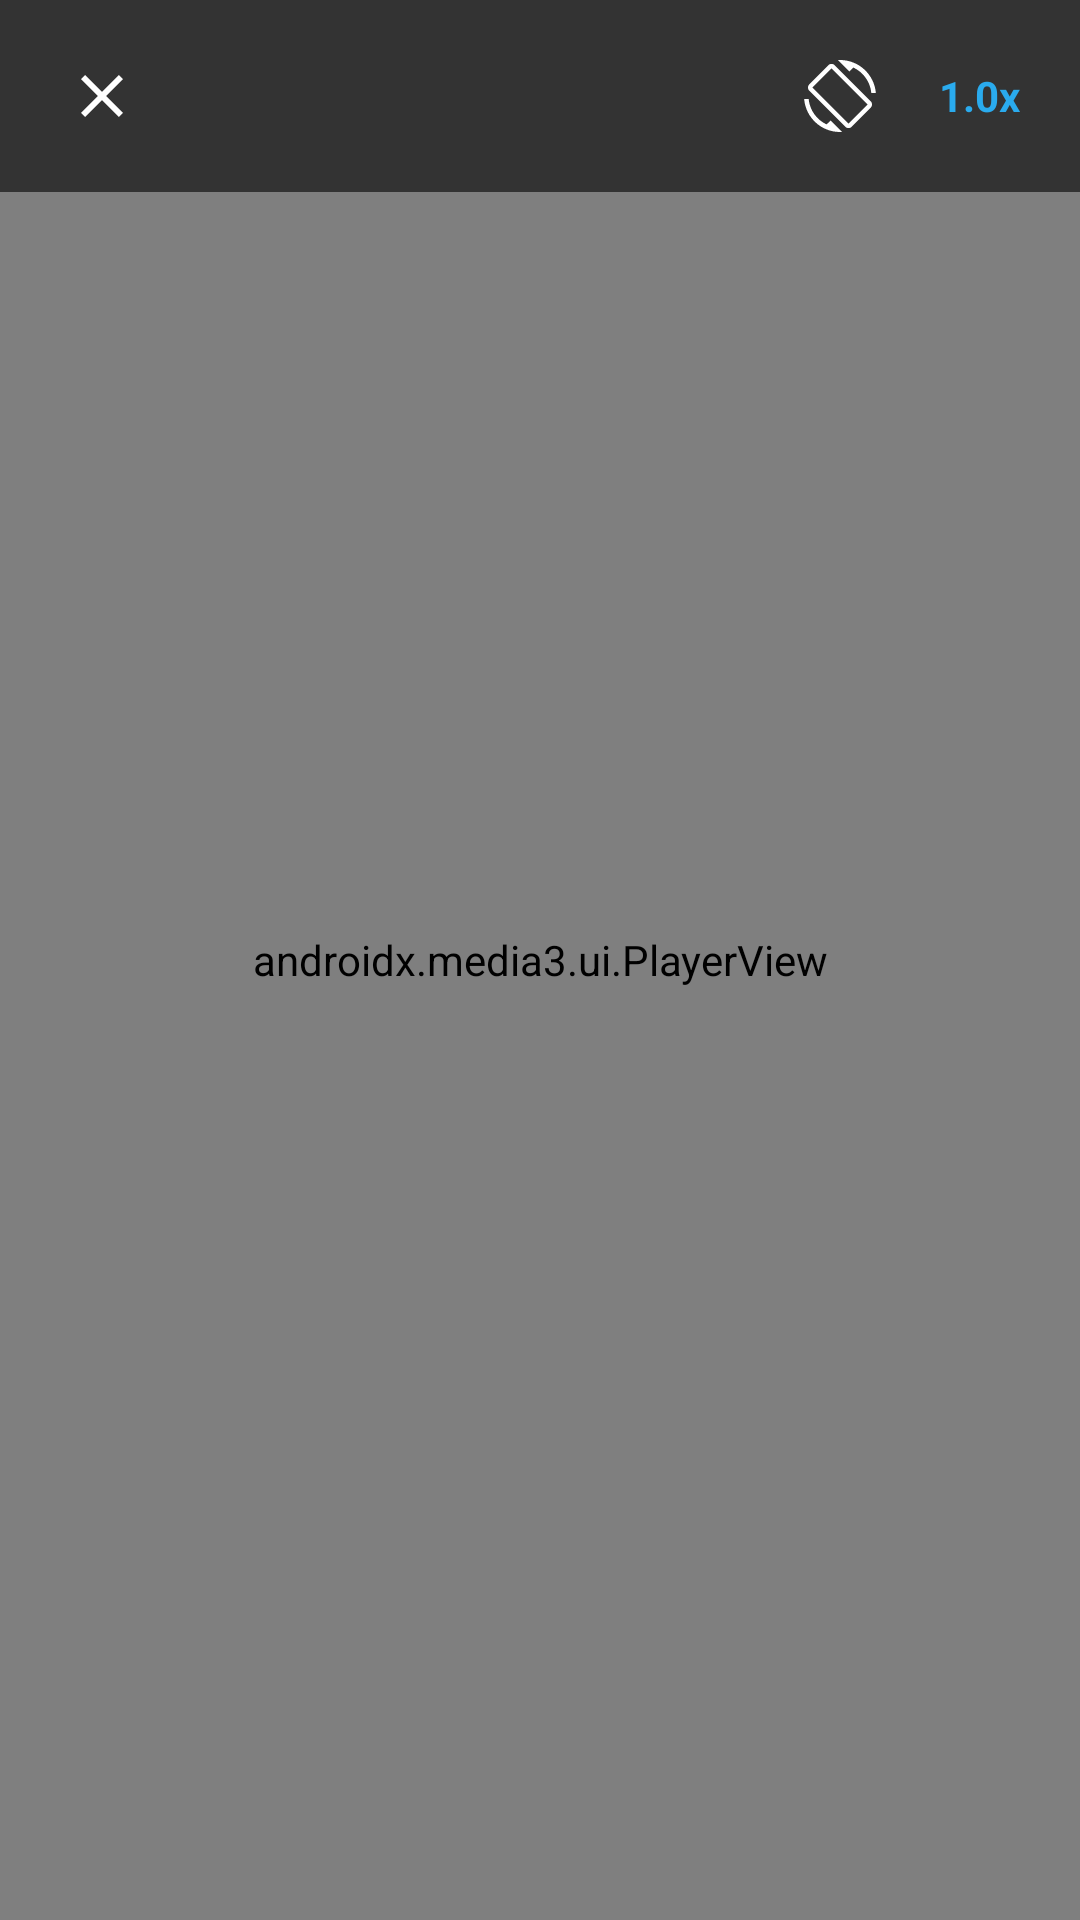

Icon click points for this 1080px x 1920px phone screenshot, format (x,y):
close: (102,96)
Rotate Screen: (840,96)
